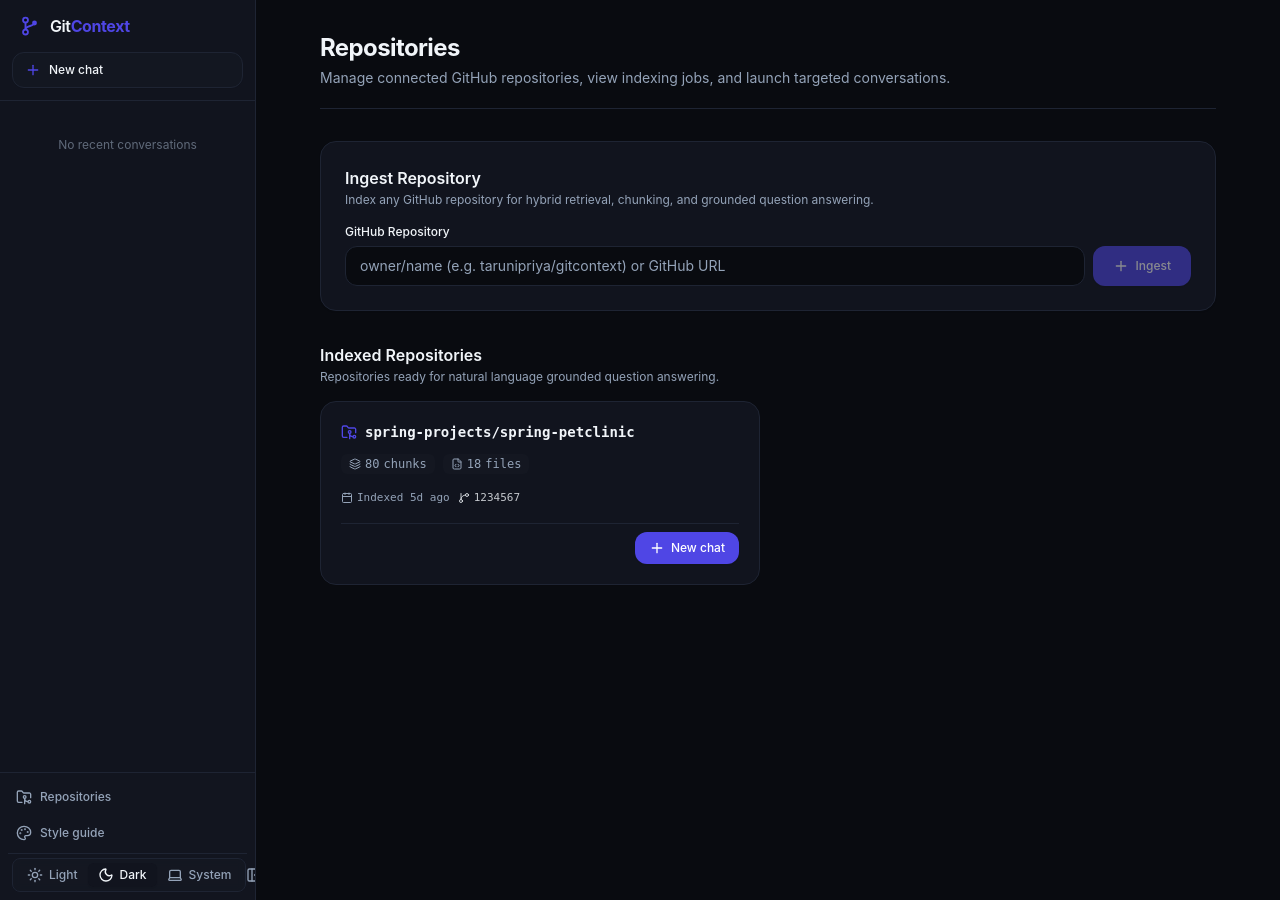
Test: App Component and Navigation › pre-fills repository on Start screen when navigated from Repositories page New chat button
This screenshot has width=1280, height=900.
Expected: the heading "spring-projects/spring-petclinic" is shown, [365,422,635,442]
Click the button with test id "ask-repo-spring-projects/spring-petclinic": {"x": 687, "y": 548} [635,532,739,564]
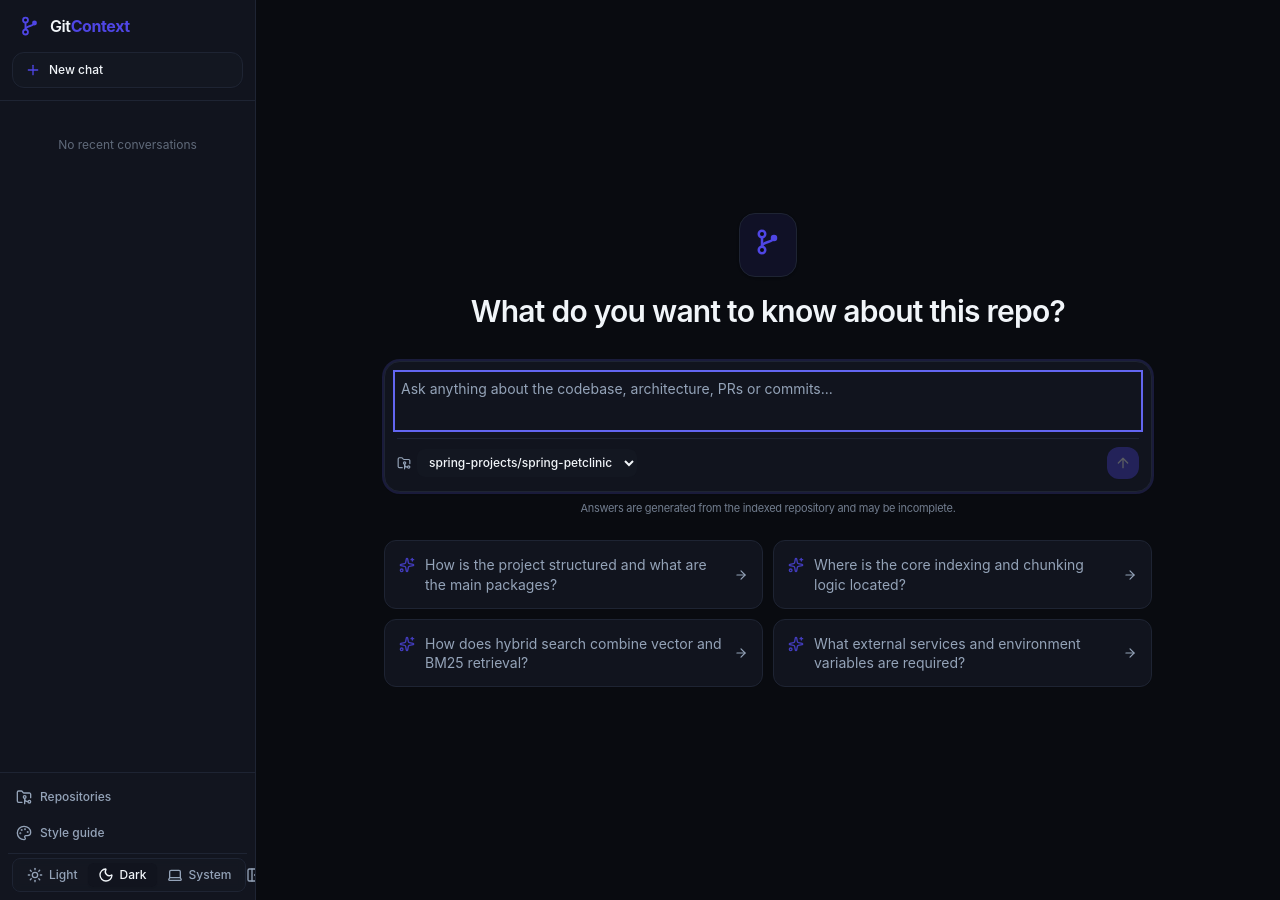
Now the heading "What do you want to know about this repo?" is shown, box [471,293,1065,329]
Now the dropdown with test id "repo-picker" shows "spring-projects/spring-petclinic", box [417,449,637,477]
